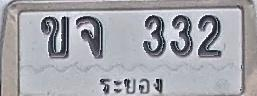2: (197, 14, 222, 57)
3: (142, 14, 165, 57), (170, 14, 193, 57)
A02: (40, 16, 70, 58)
A08: (75, 16, 104, 58)
RYG: (97, 73, 167, 96)
